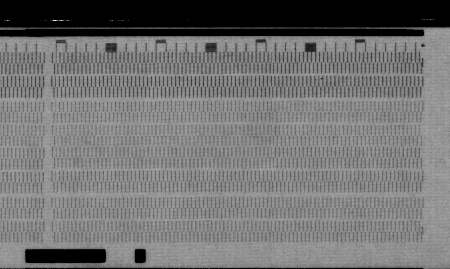Oblique printing: (417, 51, 429, 67), (417, 219, 428, 233)
